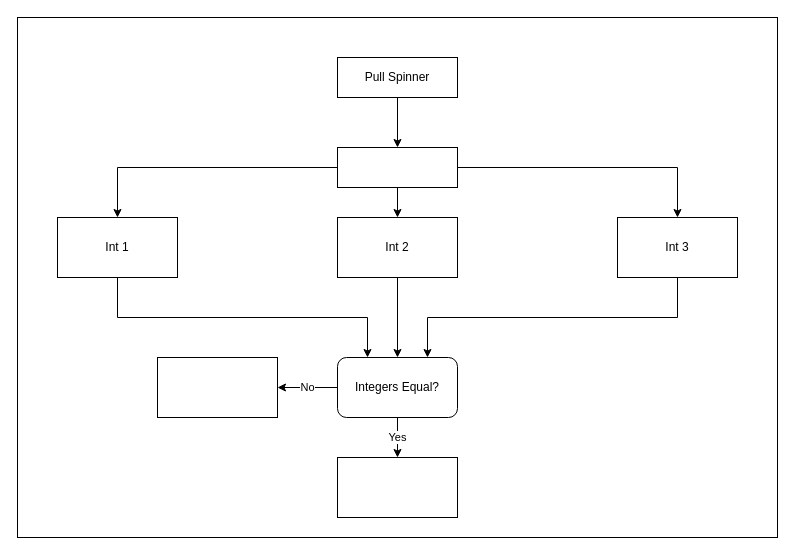
Some shapes in this 795 by 555 pixel diagram are drawn without their labels. The shapes that lost their labels are listed below. From the top down, each one's box as (x1, y1, x2, y2) in pixels, then its label:
(336, 146, 458, 188): Assign Integers
(156, 356, 278, 418): Lose Money
(336, 456, 458, 518): Check Numbers and multiply payout by value
